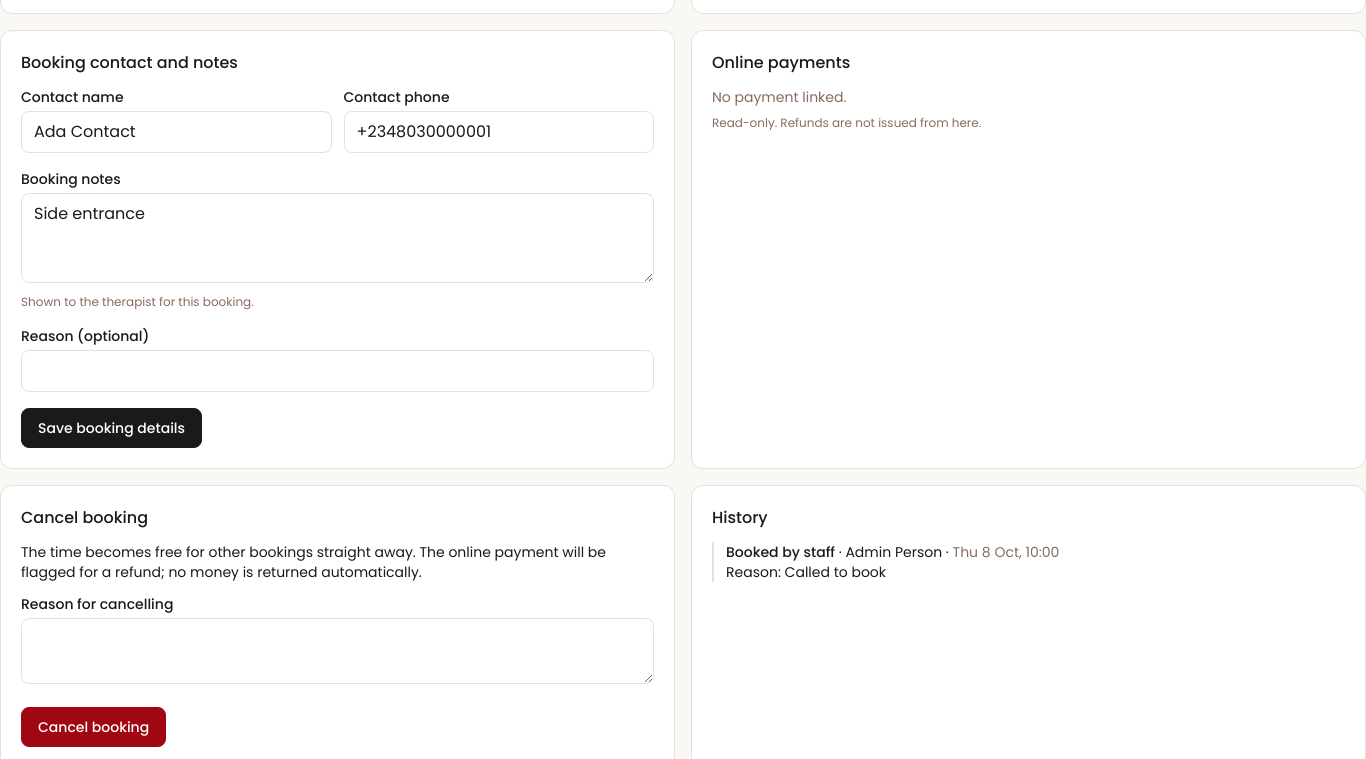
Test: appointment detail › cancelling needs a reason and reports a flagged refund
The width and height of the screenshot is (1366, 759).
(page scrolled)
Expected: the text "flagged for a refund; no money is returned automatically" is shown, x1=21 y1=542 x2=606 y2=582
In the text box labelled "Reason for cancelling": (338,651) x1=21 y1=618 x2=654 y2=684, type "Guest is unwell"
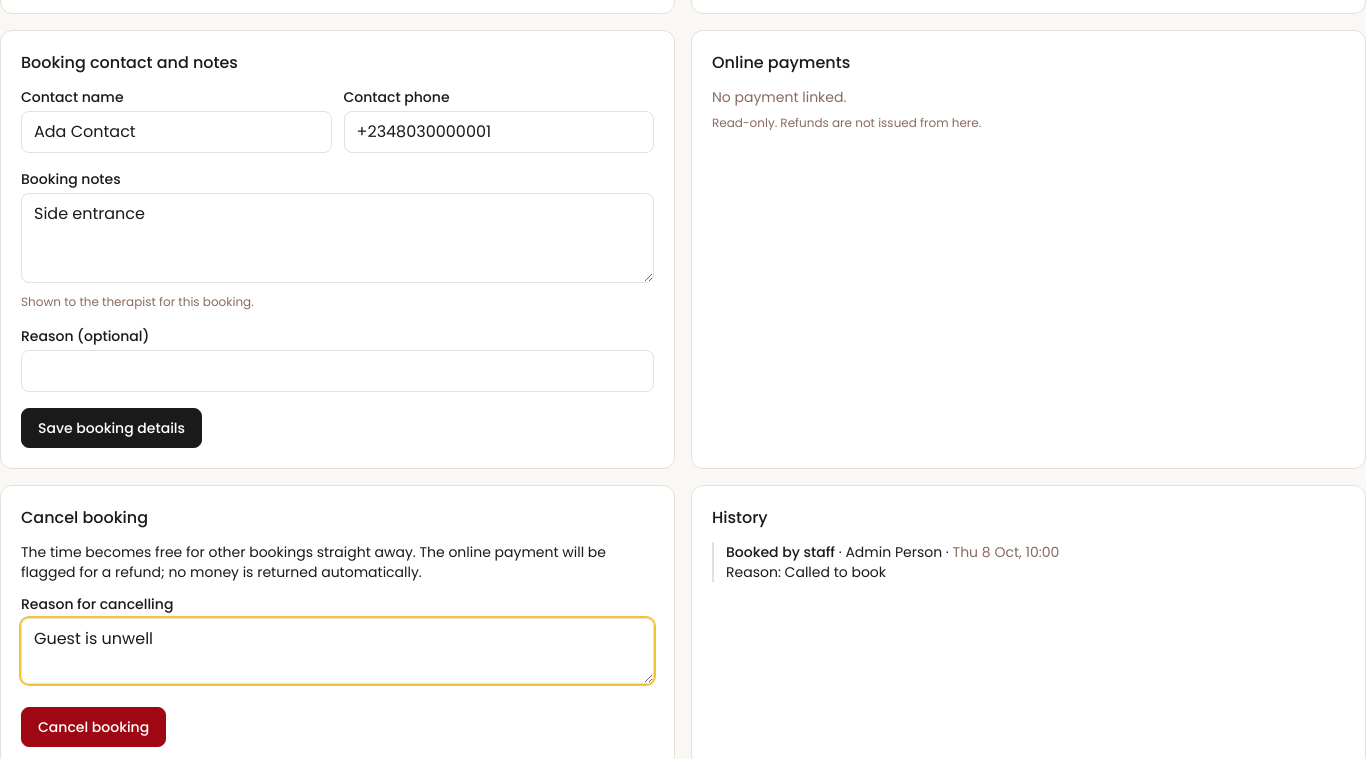
Click the button "Cancel booking": (94,727) x1=21 y1=707 x2=166 y2=747
(page scrolled)
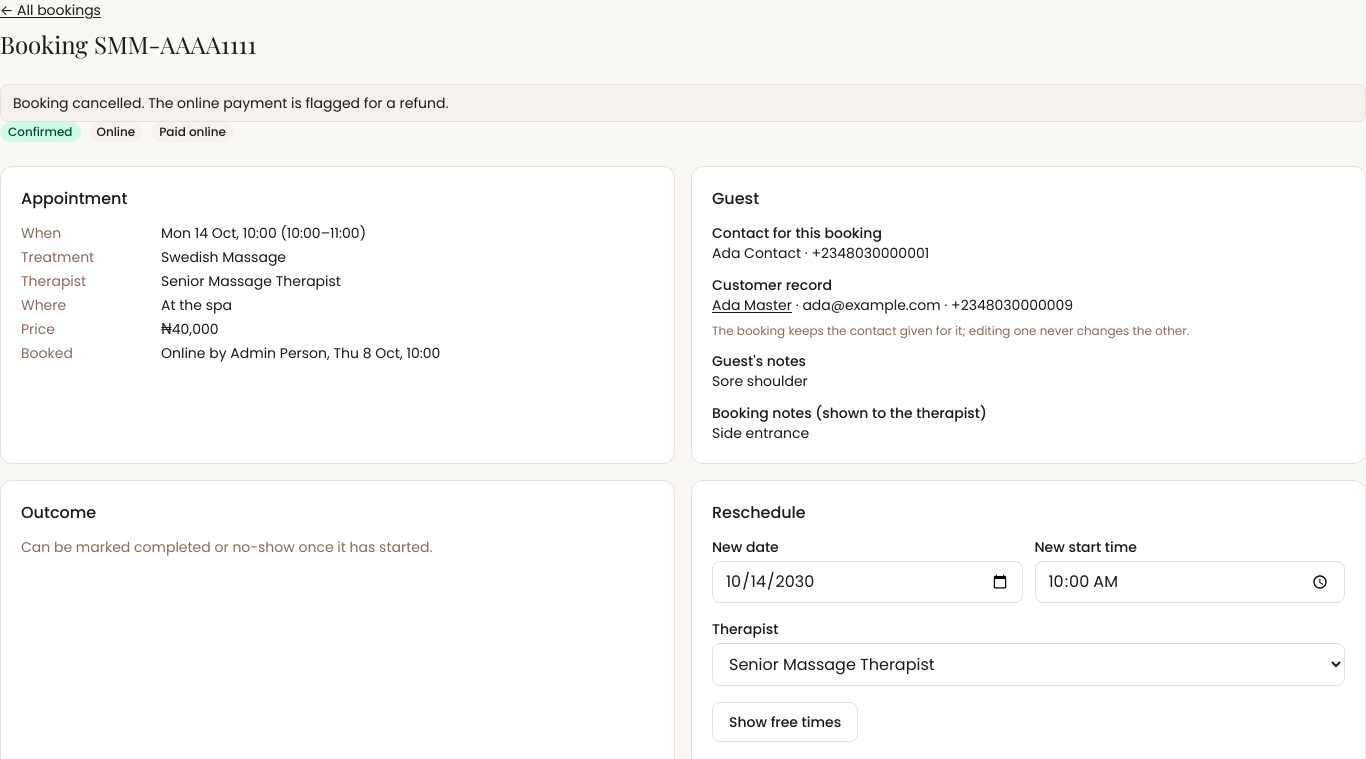
Now the text "Booking cancelled. The online payment is flagged for a refund." is shown, box x1=0 y1=84 x2=1365 y2=122
